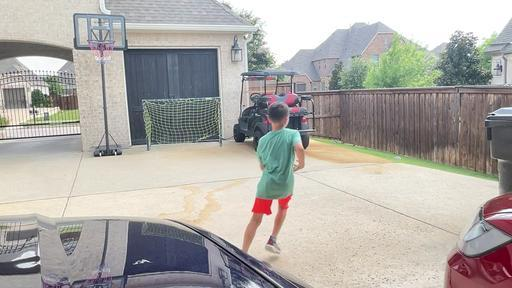human: (242, 101, 305, 256)
rim: (86, 39, 116, 60)
